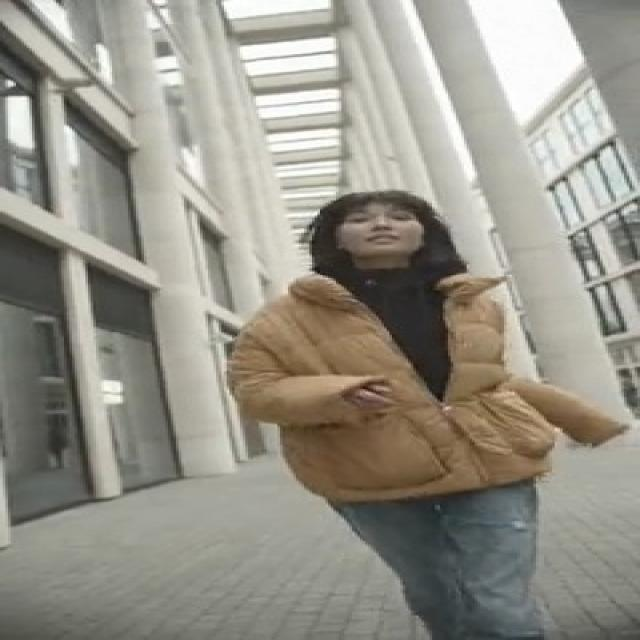Jacket_Wearer: (222, 258, 608, 483)
Person: (154, 162, 640, 639)
